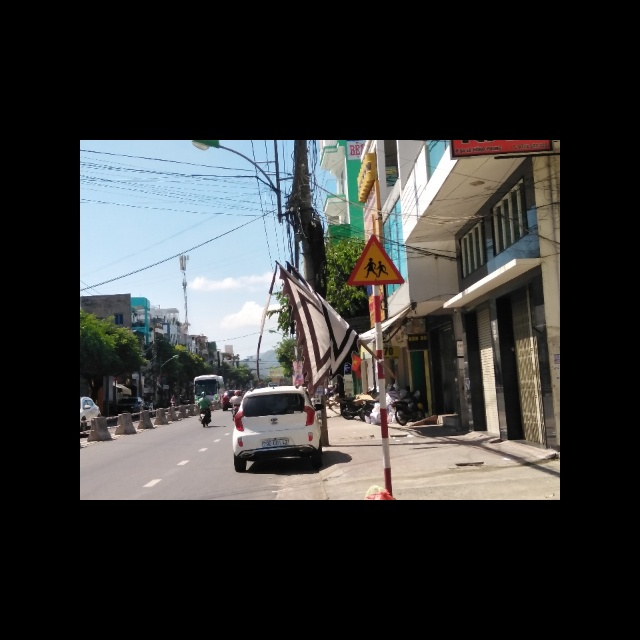Trẻ em ngang qua: (343, 235, 406, 285)
